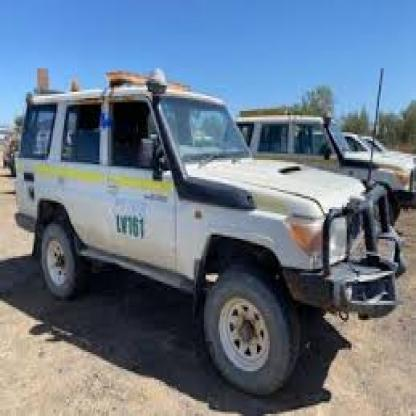light_vehicle: (6, 57, 406, 390)
